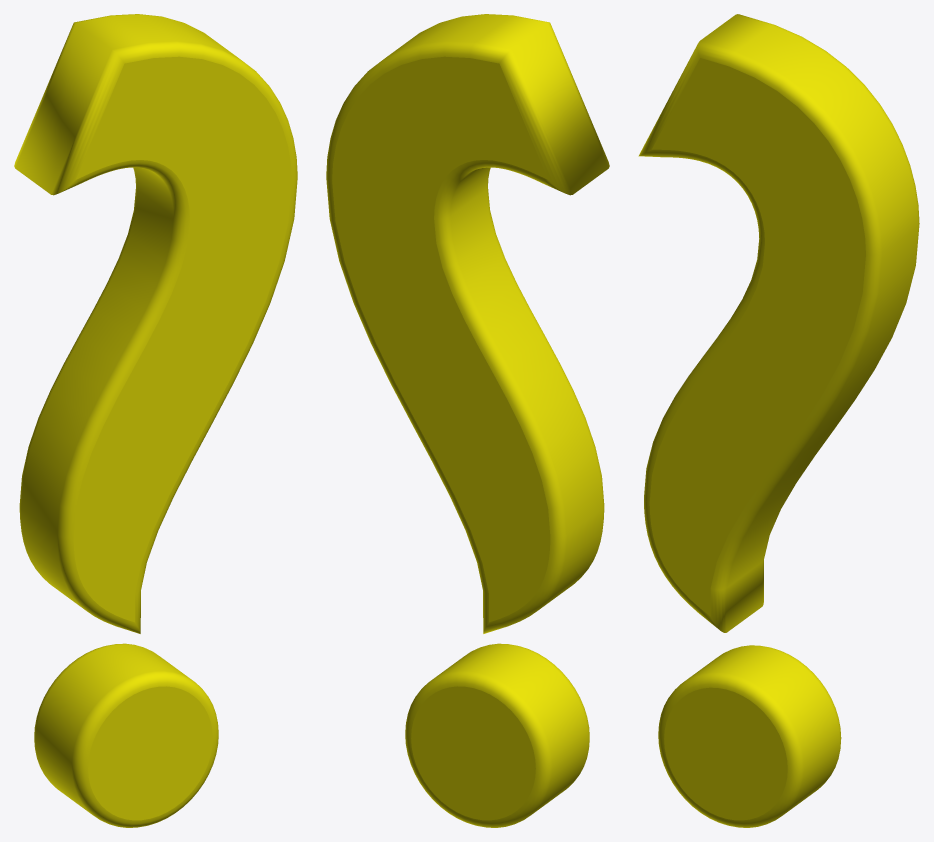
File: misionPedir.glb
3 renders of one model, left to right at view 1: azimuth 30°, elevation 25°; view 2: azimuth 150°, elevation 25°; view 3: azimuth 330°, elevation 25°, orthographic.
Parts seen in each view (by area): view 1: ?; view 2: ?; view 3: ?.
Part boxes in pixels (x1,y1,x2,y2): ?: (14, 14, 297, 827); ?: (326, 14, 609, 827); ?: (638, 14, 919, 827).
Bounding box in the file's own units: 0.2358 × 0.7203 × 0.08.
